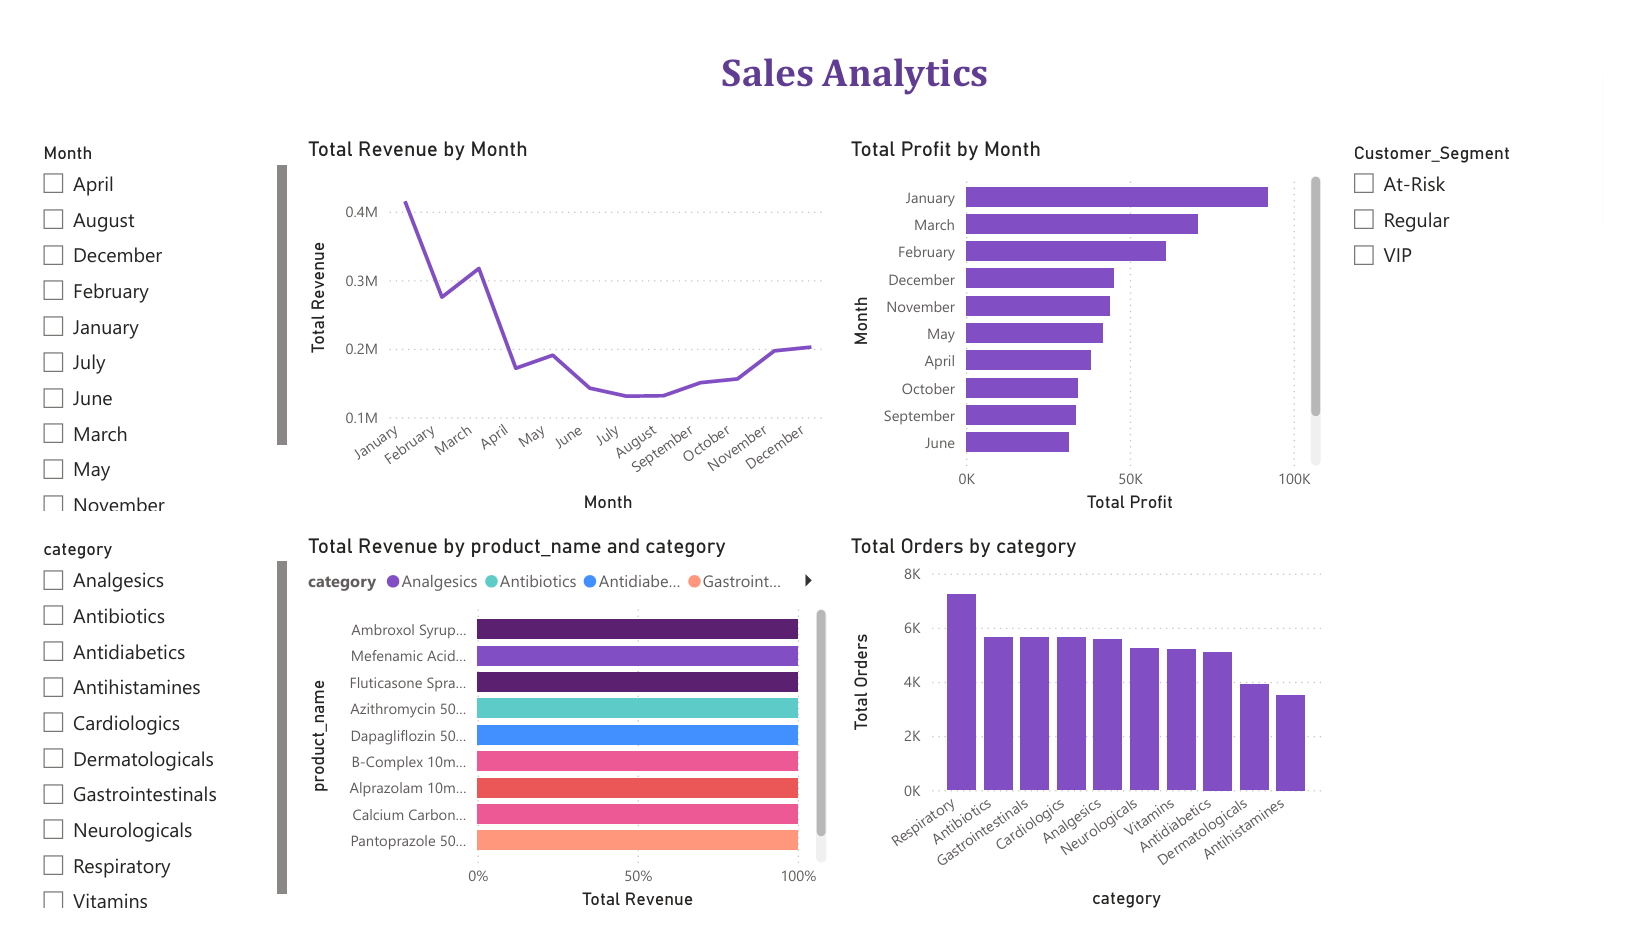

The page's visual inventory and layout, read from the dashboard file:
{"tool":"powerbi","page":{"name":"Sales Analytics","canvas":[1280,720],"ordinal":2},"visuals":[{"type":"lineChart","fields":{"Y":["processed_pharmacy_data.Total Revenue"],"Category":["processed_pharmacy_data.transaction_date.Variation.Date Hierarchy.Month"]},"box":[223.5,87.7,430.9,309.9],"z":0},{"type":"textbox","box":[445.7,12.3,474.1,50.6],"z":1},{"type":"clusteredBarChart","fields":{"Y":["processed_pharmacy_data.Total Profit"],"Category":["processed_pharmacy_data.Month"]},"box":[664.2,87.7,391.4,309.9],"z":2},{"type":"hundredPercentStackedBarChart","fields":{"Y":["processed_pharmacy_data.Total Revenue"],"Category":["processed_pharmacy_data.product_name"],"Series":["processed_pharmacy_data.category"]},"box":[223.5,409.9,430.9,309.9],"z":3},{"type":"clusteredColumnChart","fields":{"Category":["processed_pharmacy_data.category"],"Y":["processed_pharmacy_data.Total Orders"]},"box":[664.2,409.9,391.4,309.9],"z":4},{"type":"slicer","fields":{"Values":["processed_pharmacy_data.Month"]},"box":[0,87.7,216,309.9],"z":5},{"type":"slicer","fields":{"Values":["processed_pharmacy_data.category"]},"box":[0,410,216,310],"z":6},{"type":"slicer","fields":{"Values":["processed_pharmacy_data.Customer_Segment"]},"box":[1065.4,87.7,214.8,309.9],"z":7}]}

Visuals, with their boxes in screenshot pixels (x1, y1, x2, y2), scaled from the page's 1280x720 canvas onto the 1631x942 screenshot:
lineChart - processed_pharmacy_data.Total Revenue x processed_pharmacy_data.transaction_date.Variation.Date Hierarchy.Month: [left=285, top=115, right=834, bottom=520]
textbox: [left=568, top=16, right=1172, bottom=82]
clusteredBarChart - processed_pharmacy_data.Total Profit x processed_pharmacy_data.Month: [left=846, top=115, right=1345, bottom=520]
hundredPercentStackedBarChart - processed_pharmacy_data.Total Revenue x processed_pharmacy_data.product_name: [left=285, top=536, right=834, bottom=941]
clusteredColumnChart - processed_pharmacy_data.category x processed_pharmacy_data.Total Orders: [left=846, top=536, right=1345, bottom=941]
slicer - processed_pharmacy_data.Month: [left=0, top=115, right=275, bottom=520]
slicer - processed_pharmacy_data.category: [left=0, top=536, right=275, bottom=941]
slicer - processed_pharmacy_data.Customer_Segment: [left=1358, top=115, right=1630, bottom=520]
